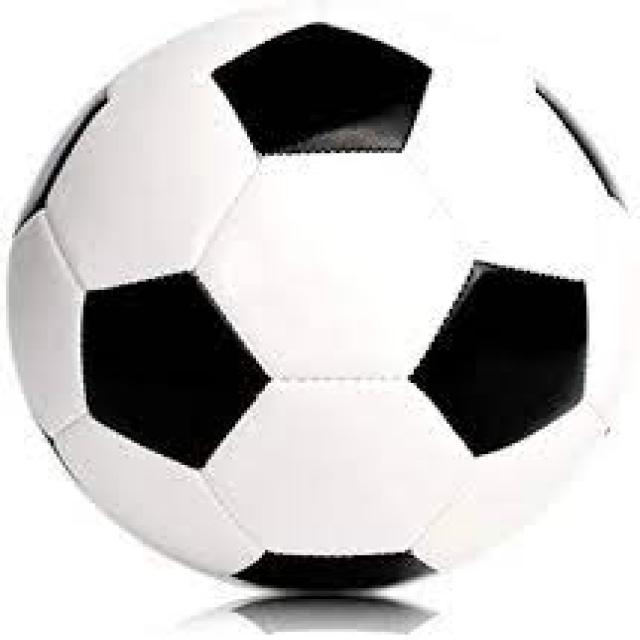football: (6, 8, 634, 596)
